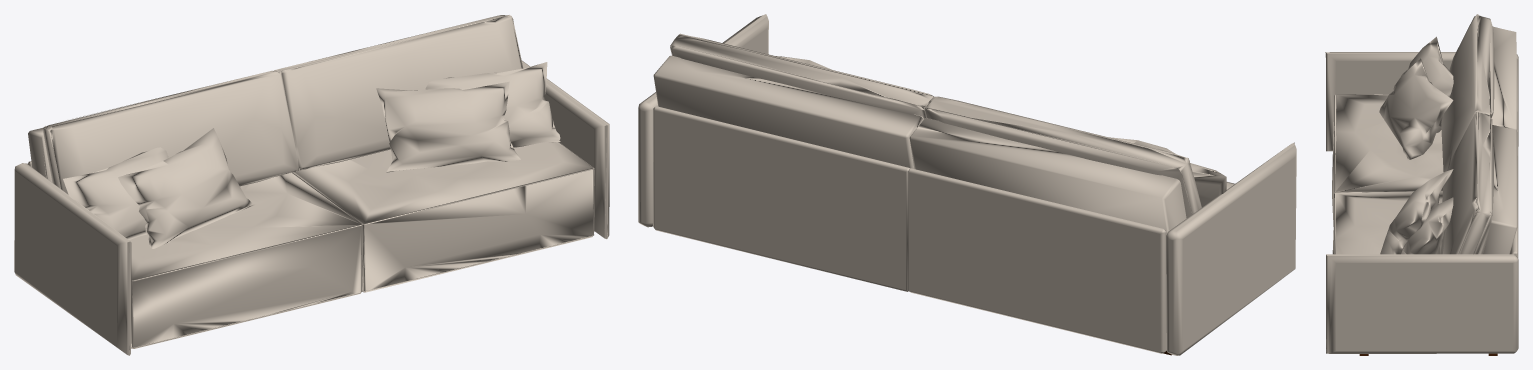
The model's file is sofa-modelo-triplo-encosto-baixo.glb.
The picture shows the model from 3 angles, left to right: view 1: azimuth 30°, elevation 25°; view 2: azimuth 150°, elevation 25°; view 3: azimuth 270°, elevation 25°; orthographic projection. The views are drawn at different scales.
Parts seen in each view (by area): view 1: Modelo Triplo Encosto baixo; view 2: Modelo Triplo Encosto baixo; view 3: Modelo Triplo Encosto baixo.
Part boxes in pixels (x1,y1,x2,y2): Modelo Triplo Encosto baixo: (14,15,609,355); Modelo Triplo Encosto baixo: (638,14,1296,355); Modelo Triplo Encosto baixo: (1325,14,1518,355).
Bounding box in the file's own units: 2.75 × 0.9152 × 1.08.
